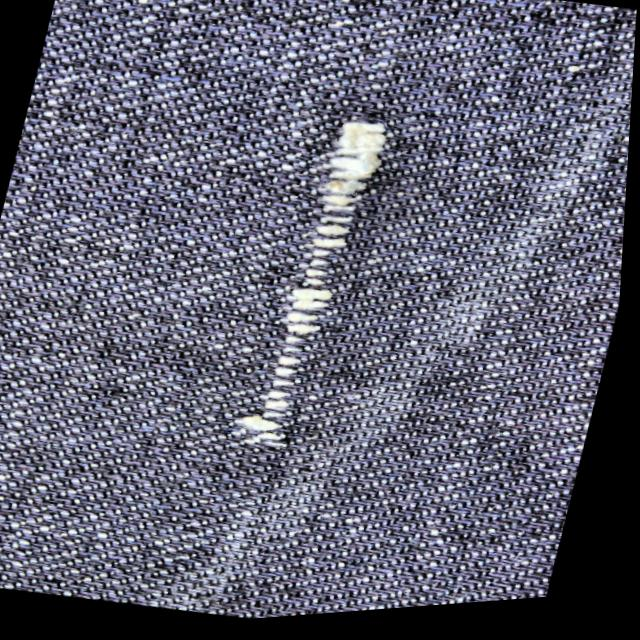Hole: (296, 84, 418, 229), (227, 339, 345, 485), (268, 214, 384, 352)
